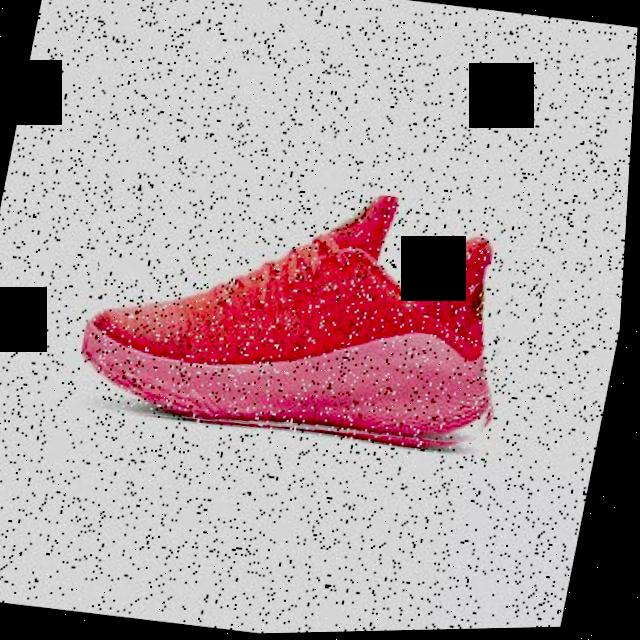shoe: (73, 157, 539, 467)
